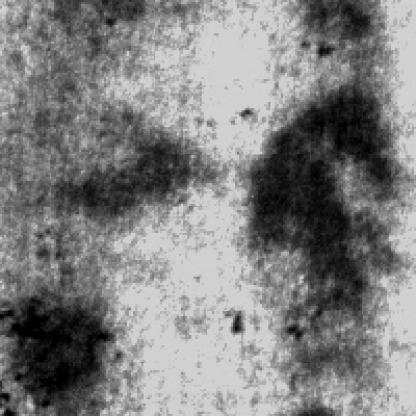patches: (242, 92, 404, 341), (75, 137, 204, 227), (15, 304, 113, 416)
